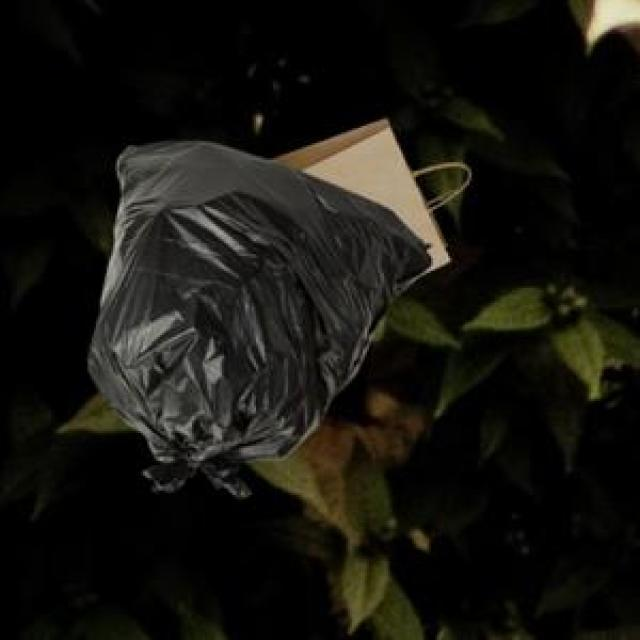miscellaneous trash: (85, 137, 427, 493)
paper: (265, 115, 446, 267)
